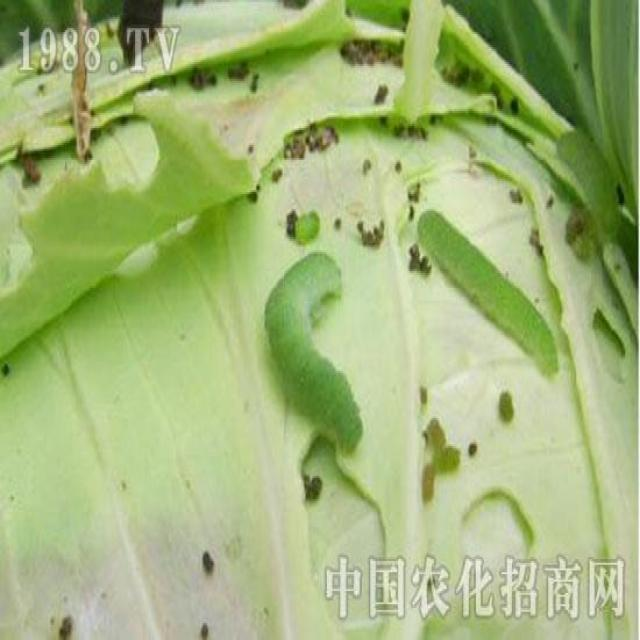BeetArmyWorm-Larva-: (412, 201, 562, 381), (254, 239, 368, 462)
